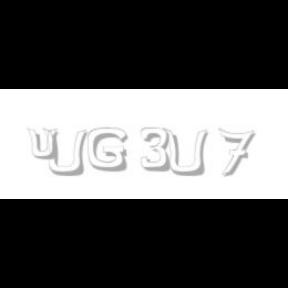3: (140, 128, 171, 172)
7: (218, 128, 255, 178)
G: (87, 128, 127, 172)
U: (162, 128, 208, 178), (42, 128, 86, 178)
u: (26, 128, 62, 160)
